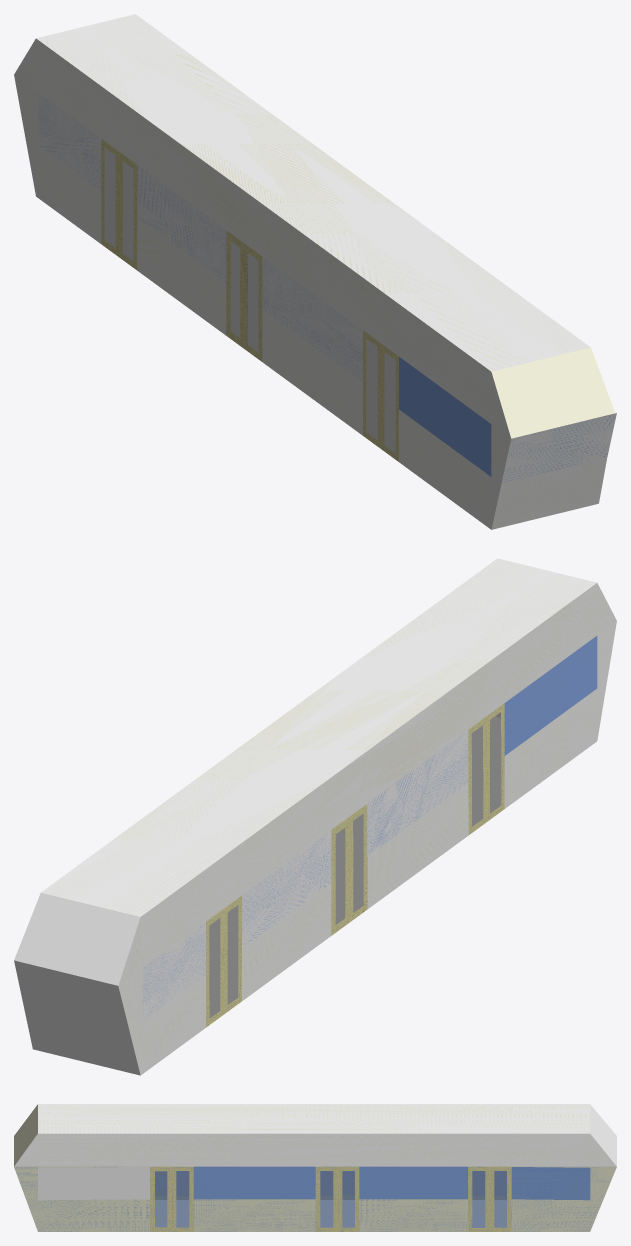
Rendered from Pierre_Subway_wagon.dae.
The picture shows the model from 3 angles, top to bottom: view 1: azimuth 30°, elevation 25°; view 2: azimuth 150°, elevation 25°; view 3: azimuth 270°, elevation 25°; orthographic projection. The views are drawn at different scales.
Parts seen in each view (by area): view 1: SketchUp (×18); view 2: SketchUp (×17); view 3: SketchUp (×27).
Boxes of the visible parts, left/top/right/bottom form: SketchUp (×18): left=14, top=14, right=615, bottom=529; SketchUp (×17): left=14, top=558, right=616, bottom=1075; SketchUp (×27): left=14, top=1104, right=616, bottom=1231.
Bounding box in the file's own units: 103 × 814 × 143.
